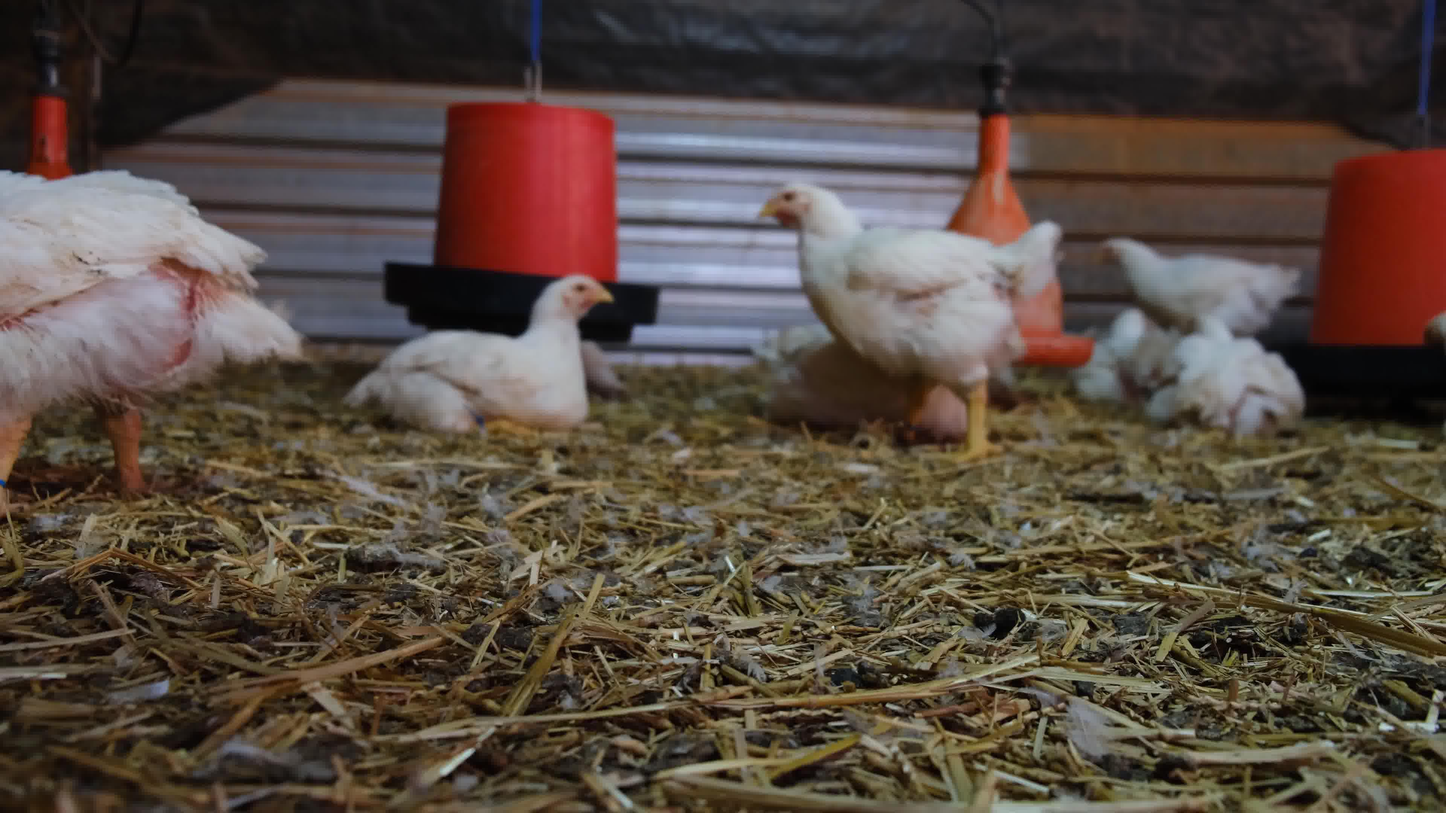AbNormal: (341, 275, 620, 431), (1162, 319, 1309, 437), (1072, 315, 1176, 405)
Normal: (0, 155, 301, 524), (752, 179, 1060, 458), (1096, 234, 1302, 333)
